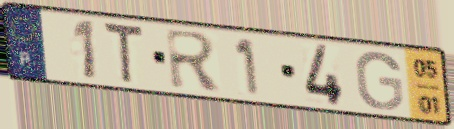1: (68, 17, 99, 81), (230, 35, 261, 97)
4: (302, 42, 346, 109)
G: (353, 50, 406, 112)
R: (163, 27, 226, 94)
T: (100, 19, 146, 88)
